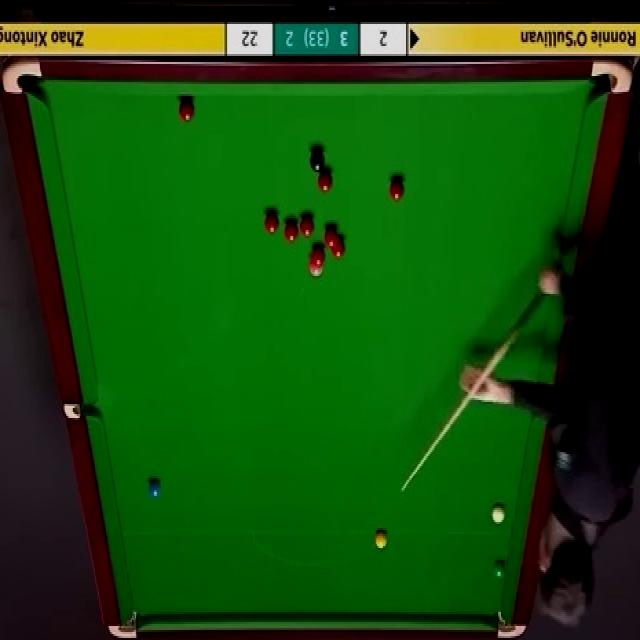pocket: (588, 58, 635, 97), (3, 58, 45, 97), (108, 608, 140, 640), (494, 611, 528, 640), (63, 403, 100, 422)
